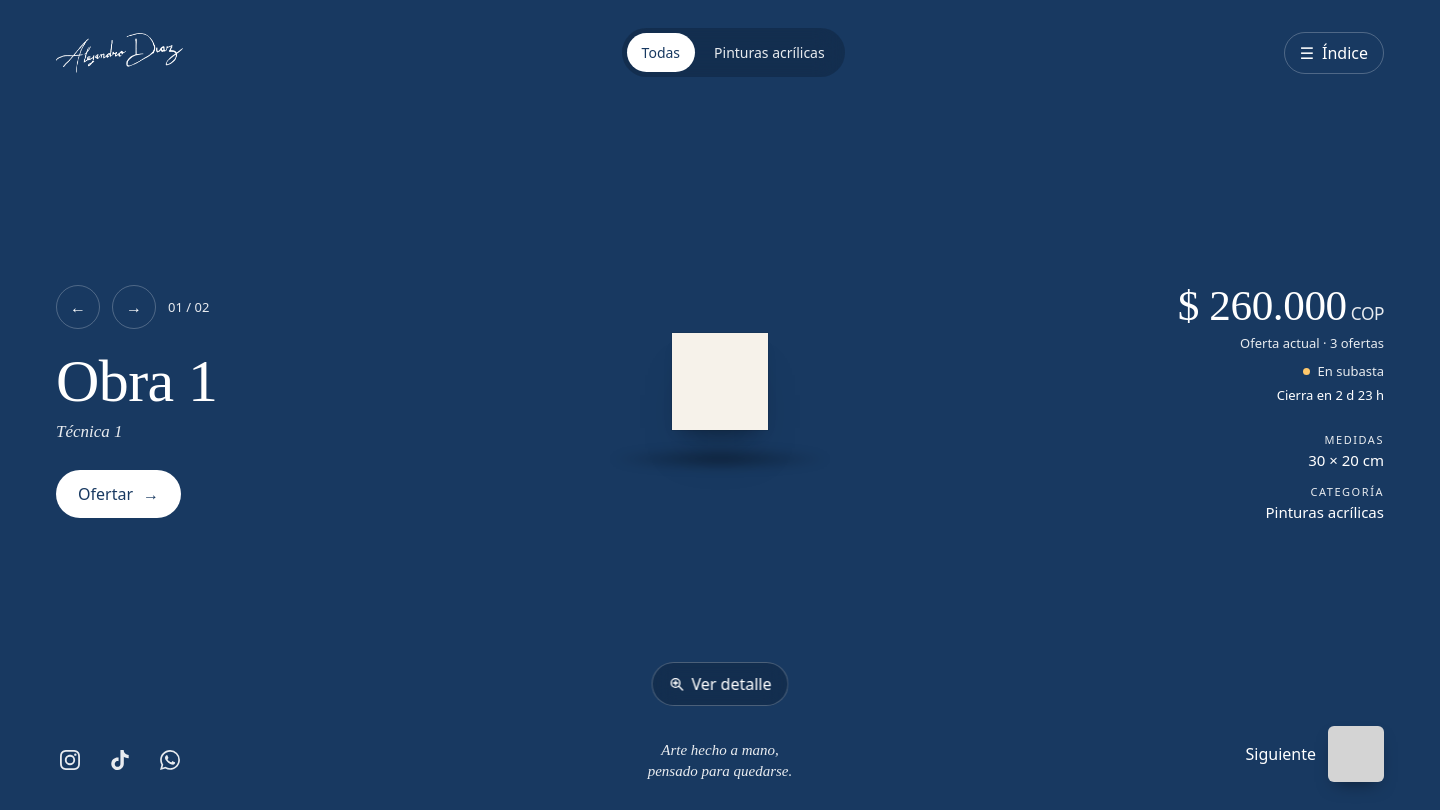
Scenario: subasta con ofertas muestra la actual y el conteo; cerrada vuelve a WhatsApp
This screenshot has width=1440, height=810.
Expected: the heading "Obra 1" is shown, [56, 351, 217, 412]
Expected: the text "Oferta actual · 3 ofertas" is shown, [1240, 334, 1384, 352]
Click the button named "Obra siguiente".
click(134, 307)  # box [112, 285, 156, 329]
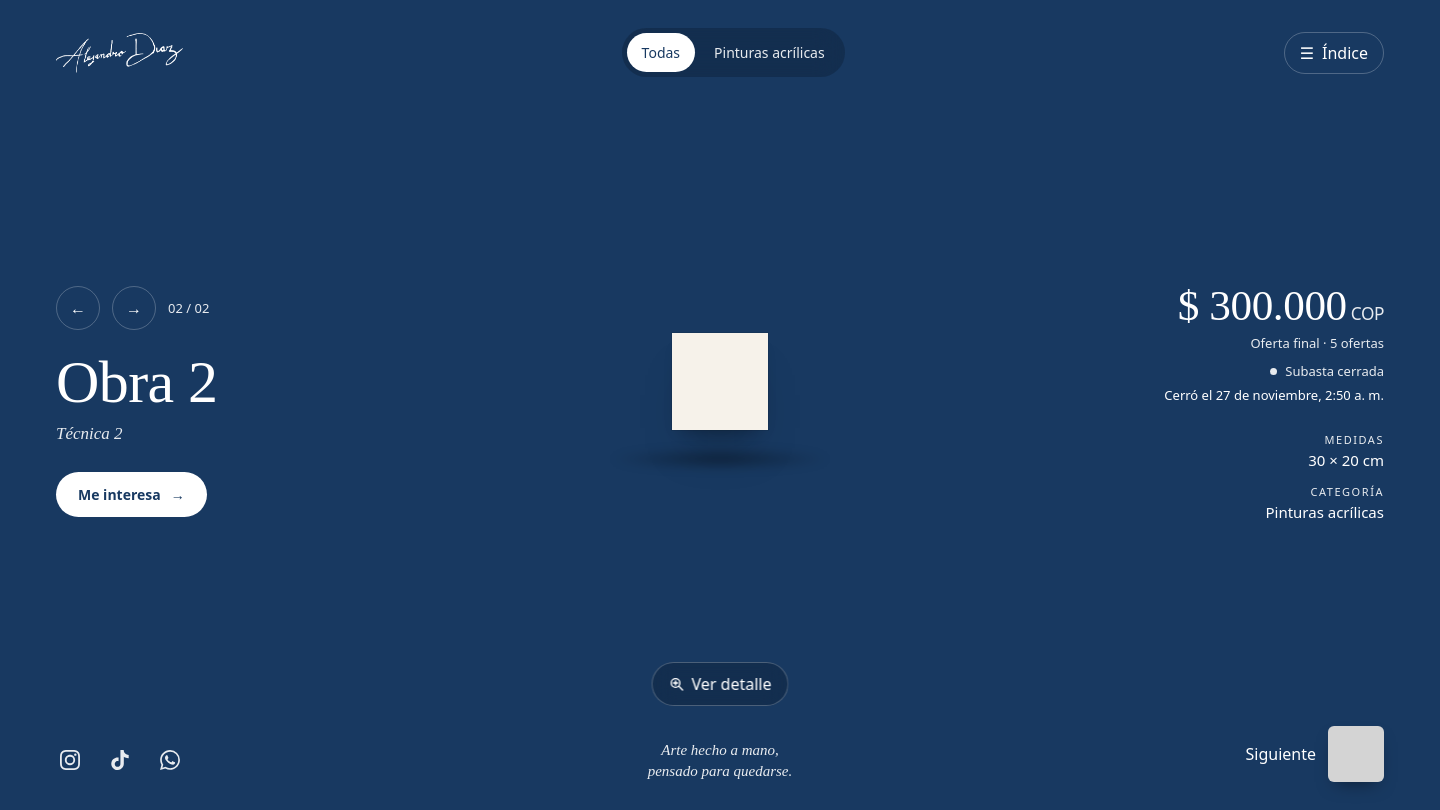
Result: the text "Subasta cerrada" is shown at [1270, 362, 1384, 380]
Result: the button "Ofertar" is gone
